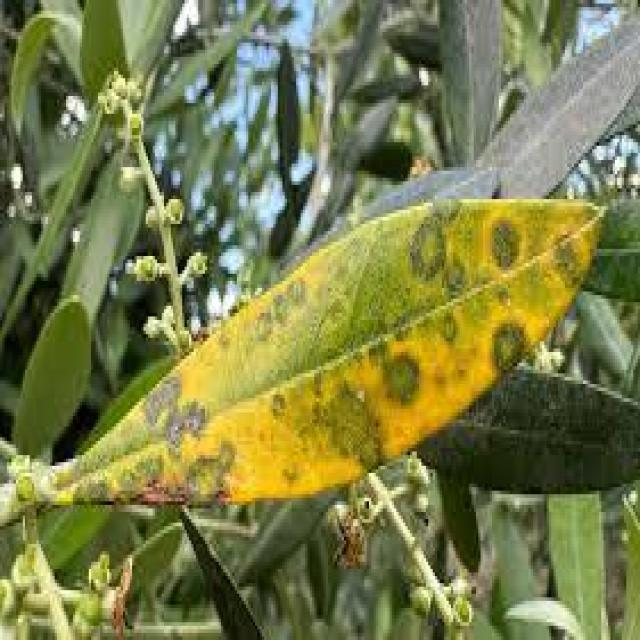Peacock Eye: (75, 199, 601, 501)
